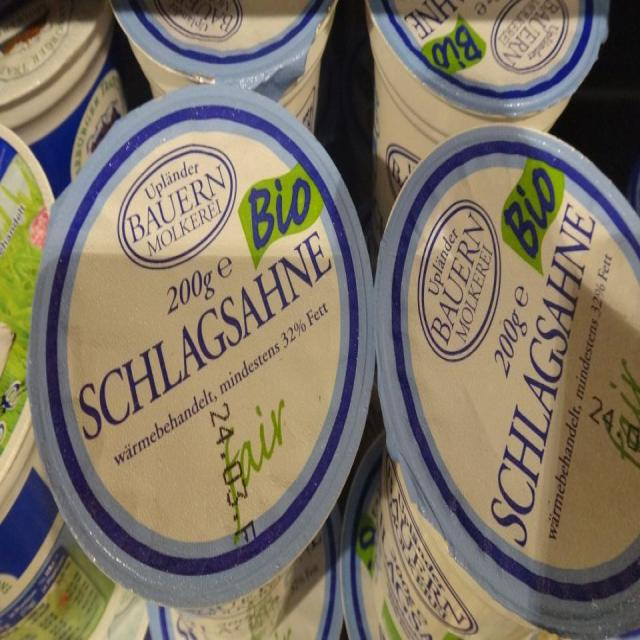Cream: (26, 85, 374, 638), (374, 123, 640, 639), (0, 124, 115, 639), (367, 0, 611, 233), (112, 0, 337, 130), (0, 0, 126, 196)
